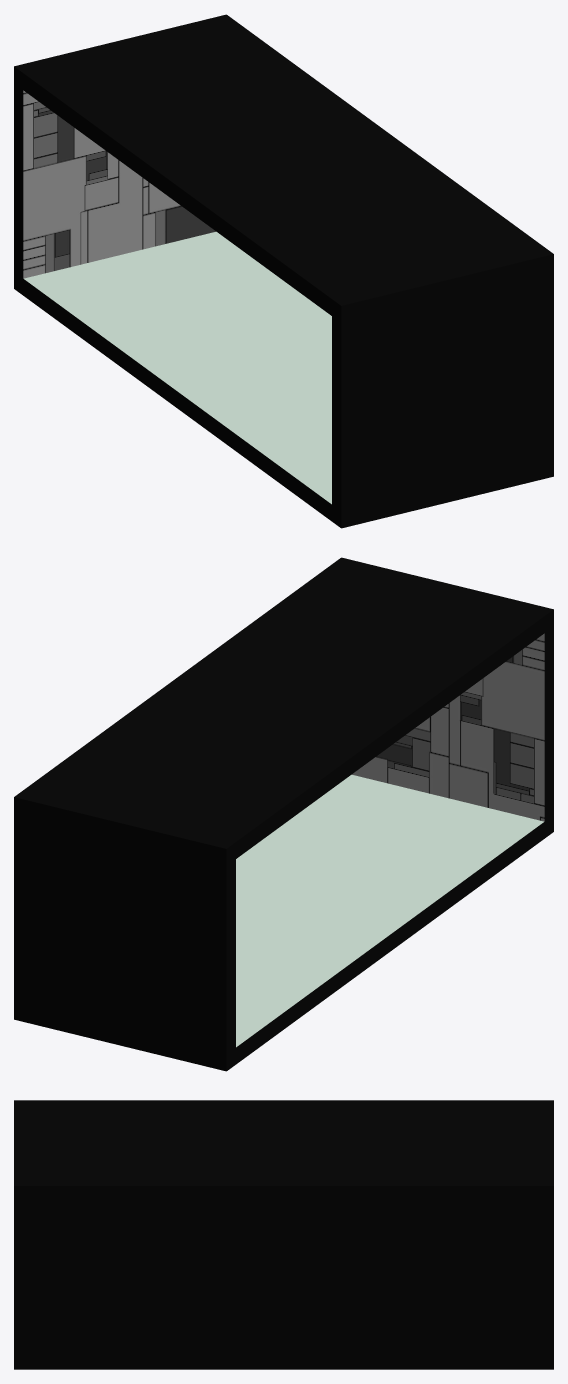
The model's file is SM_RoomType1.fbx.
3 renders of one model, top to bottom at view 1: azimuth 30°, elevation 25°; view 2: azimuth 150°, elevation 25°; view 3: azimuth 270°, elevation 25°, orthographic. The views are drawn at different scales.
Parts seen in each view (by area): view 1: Cube; view 2: Cube; view 3: Cube.
Part boxes in pixels (x1=…): Cube: x1=14, y1=14, x2=553, y2=528; Cube: x1=14, y1=557, x2=553, y2=1071; Cube: x1=14, y1=1100, x2=553, y2=1369.
Size of the model in its own units: 3 by 3 by 8.
